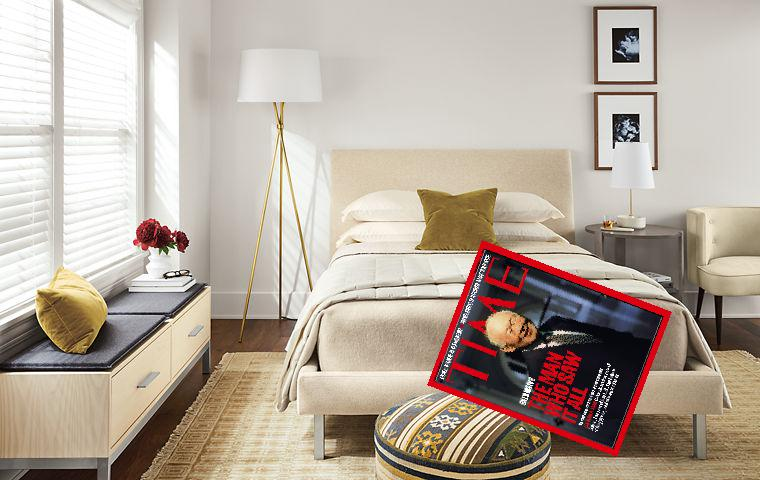times: (426, 239, 673, 455)
